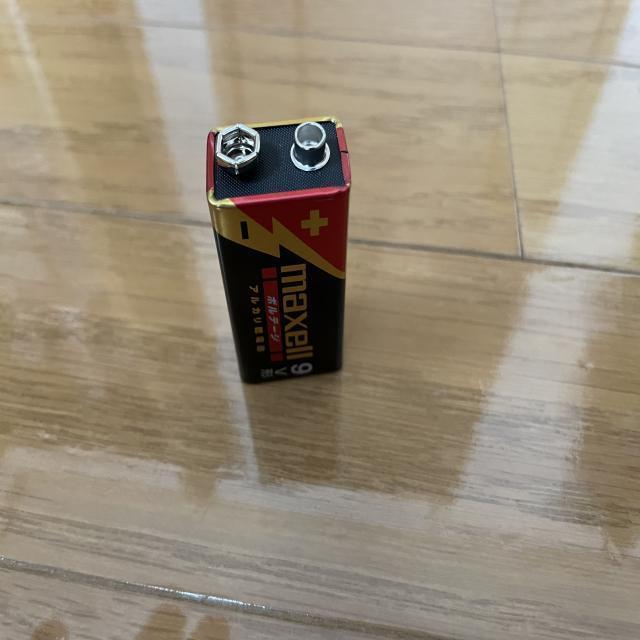9V: (206, 114, 358, 384)
